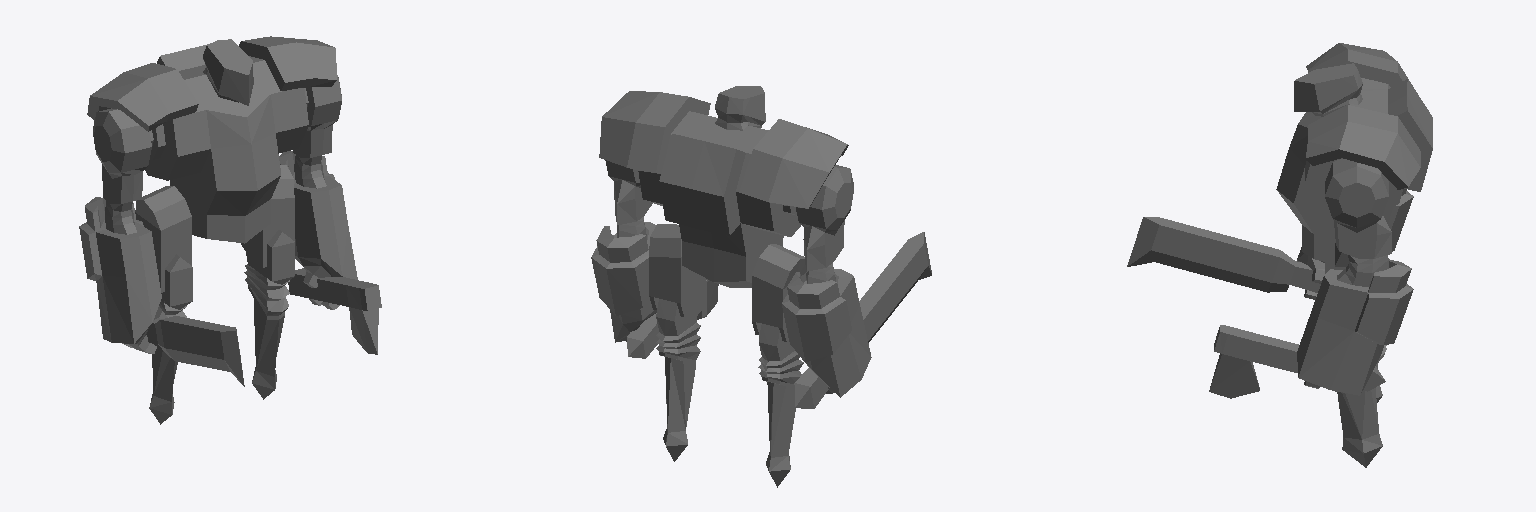
Rendered from Specialist.obj.
3 views of the same model, side by side, from view 1: azimuth 30°, elevation 25°; view 2: azimuth 150°, elevation 25°; view 3: azimuth 270°, elevation 25° (orthographic).
Parts seen in each view (by area): view 1: Specialist, pCube1, pCube2; view 2: Specialist, pCube1, pCube2; view 3: Specialist, pCube1, pCube2.
Boxes of the visible parts, x1,y1,x2,y2 form: Specialist: [79, 36, 357, 424]; pCube1: [146, 316, 244, 386]; pCube2: [288, 268, 381, 354]; Specialist: [591, 86, 871, 487]; pCube1: [794, 232, 931, 408]; pCube2: [627, 279, 718, 358]; Specialist: [1276, 43, 1432, 467]; pCube1: [1127, 217, 1320, 292]; pCube2: [1209, 325, 1385, 398].
Size of the model in its own units: 98.53 by 144 by 106.